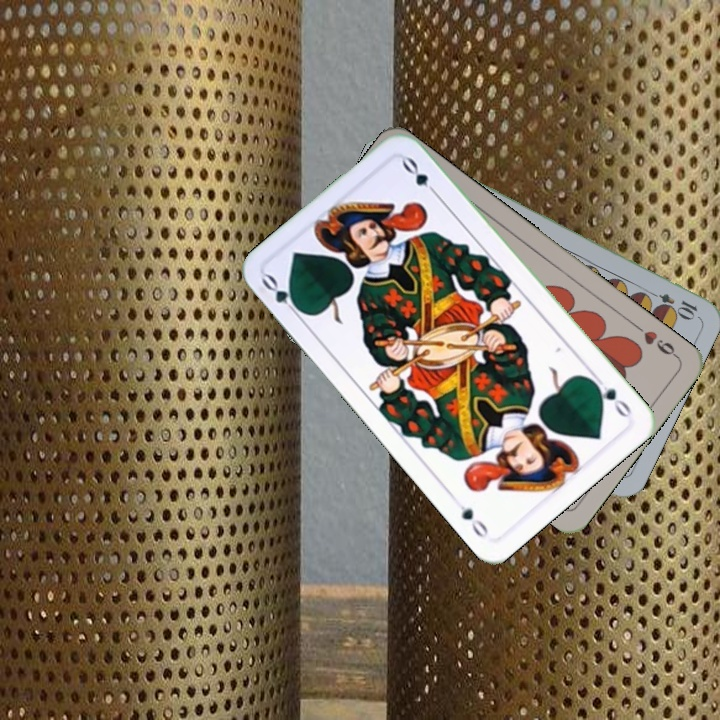E10: (643, 286, 700, 321)
GO: (257, 270, 307, 321), (587, 372, 634, 421)
H9: (630, 320, 681, 361)
